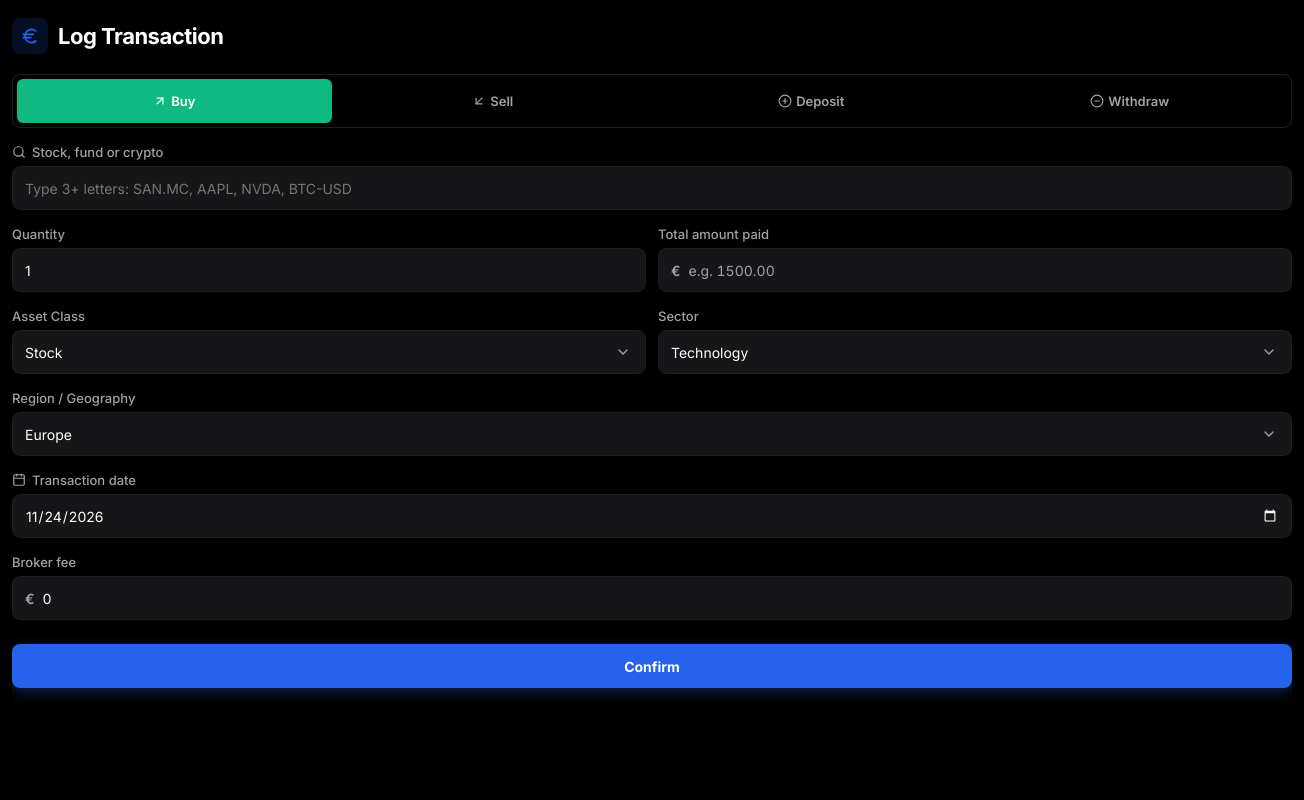
Test: TransactionForm: the Sold tab only sells what is owned › says nothing can be sold, and cannot be confirmed, with no open positions
What coordinates should you click on to do the following:
click the button "Sell"
I would click on:
 (493, 101)
Its box is [336,79,650,123].
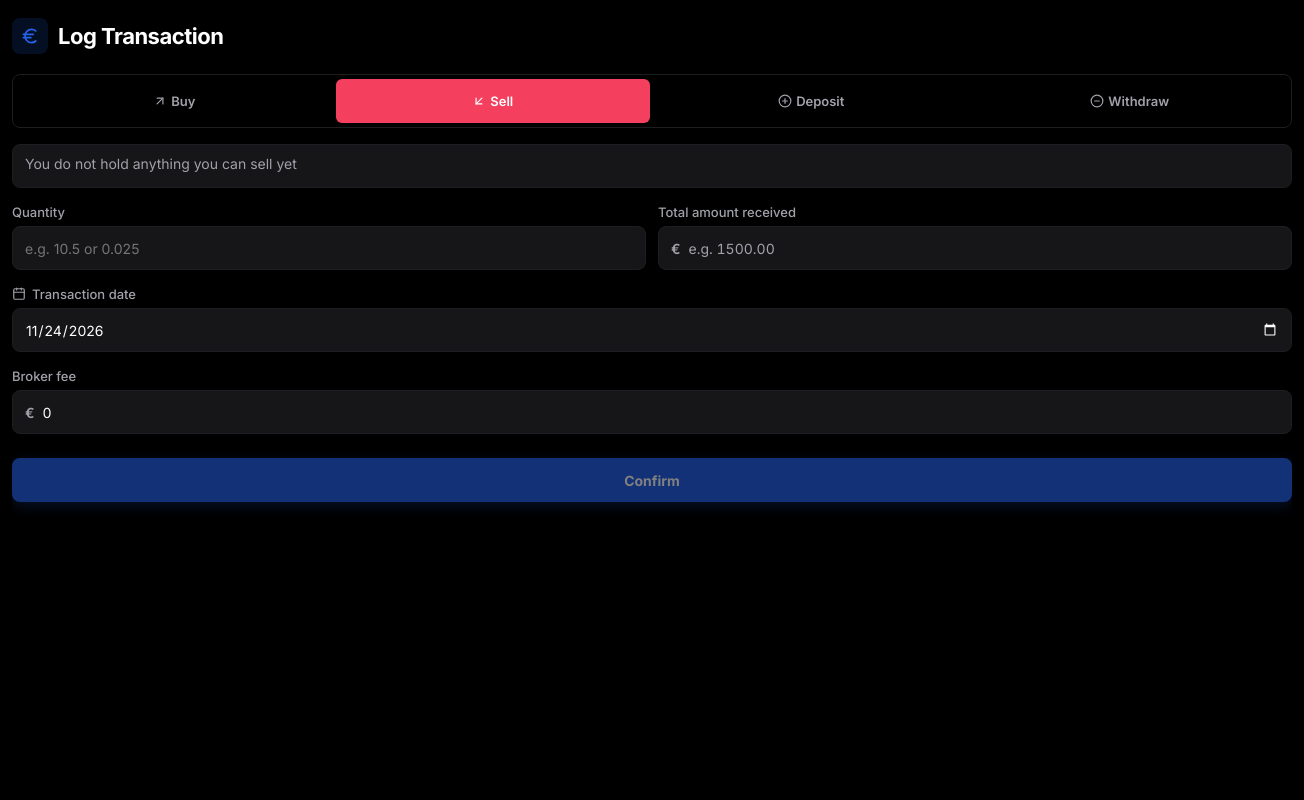
Now the text "You do not hold anything you can sell yet" is shown, box [12,144,1292,188]
Now the button "Confirm" is disabled, box [12,458,1292,502]
